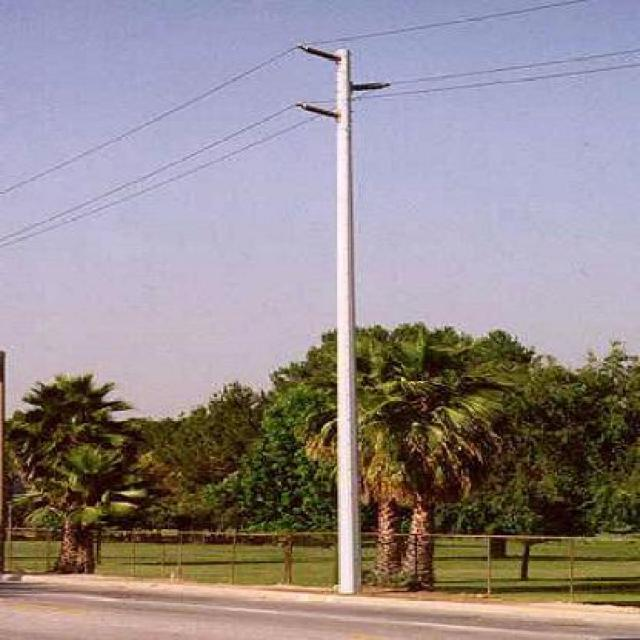pole: (271, 20, 398, 229)
